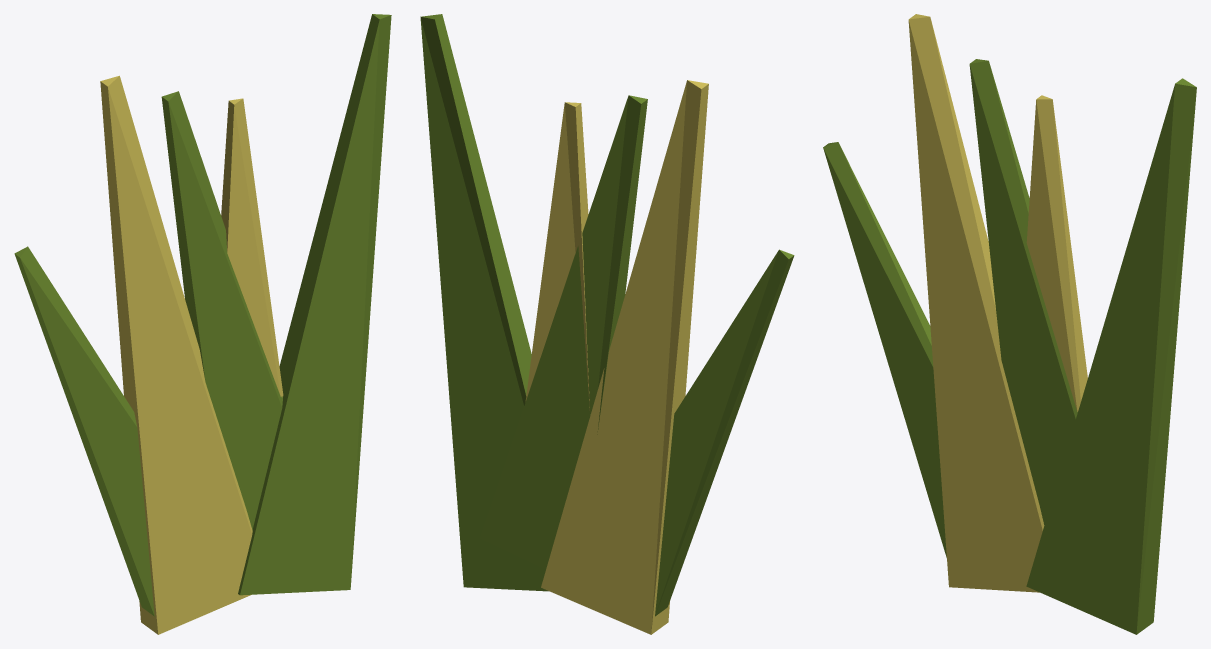
Rendered from Grass_1_Autumn_1_mat.fbx.
3 views of the same model, side by side, from view 1: azimuth 30°, elevation 25°; view 2: azimuth 150°, elevation 25°; view 3: azimuth 330°, elevation 25° (orthographic).
Visible parts, largest first — view 1: Grass_1_Autumn_1_mat; view 2: Grass_1_Autumn_1_mat; view 3: Grass_1_Autumn_1_mat.
Part boxes in pixels (<box>): Grass_1_Autumn_1_mat: <box>14,14,391,634</box>; Grass_1_Autumn_1_mat: <box>420,14,794,634</box>; Grass_1_Autumn_1_mat: <box>823,14,1196,634</box>.
Size of the model in its own units: 23.63 by 33.78 by 2.11.
